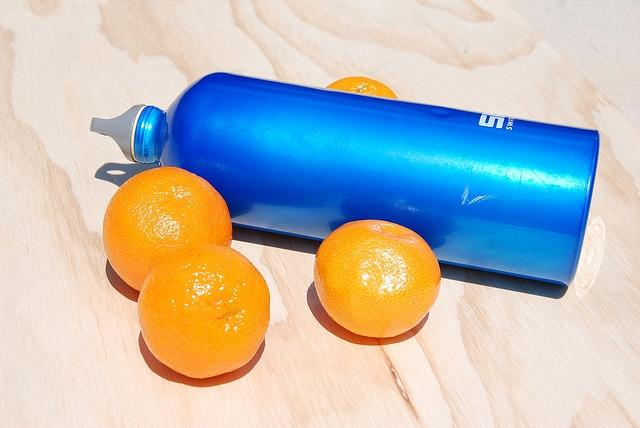orange: (137, 242, 270, 378), (103, 167, 232, 291), (314, 219, 441, 339), (326, 77, 398, 99)
